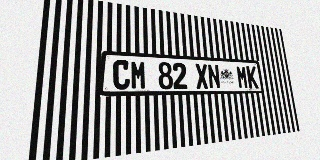2: (172, 62, 187, 89)
8: (158, 62, 173, 89)
C: (113, 60, 130, 90)
K: (246, 66, 259, 88)
M: (130, 60, 147, 90), (236, 65, 249, 89)
N: (207, 64, 221, 89)
X: (195, 63, 209, 89)
